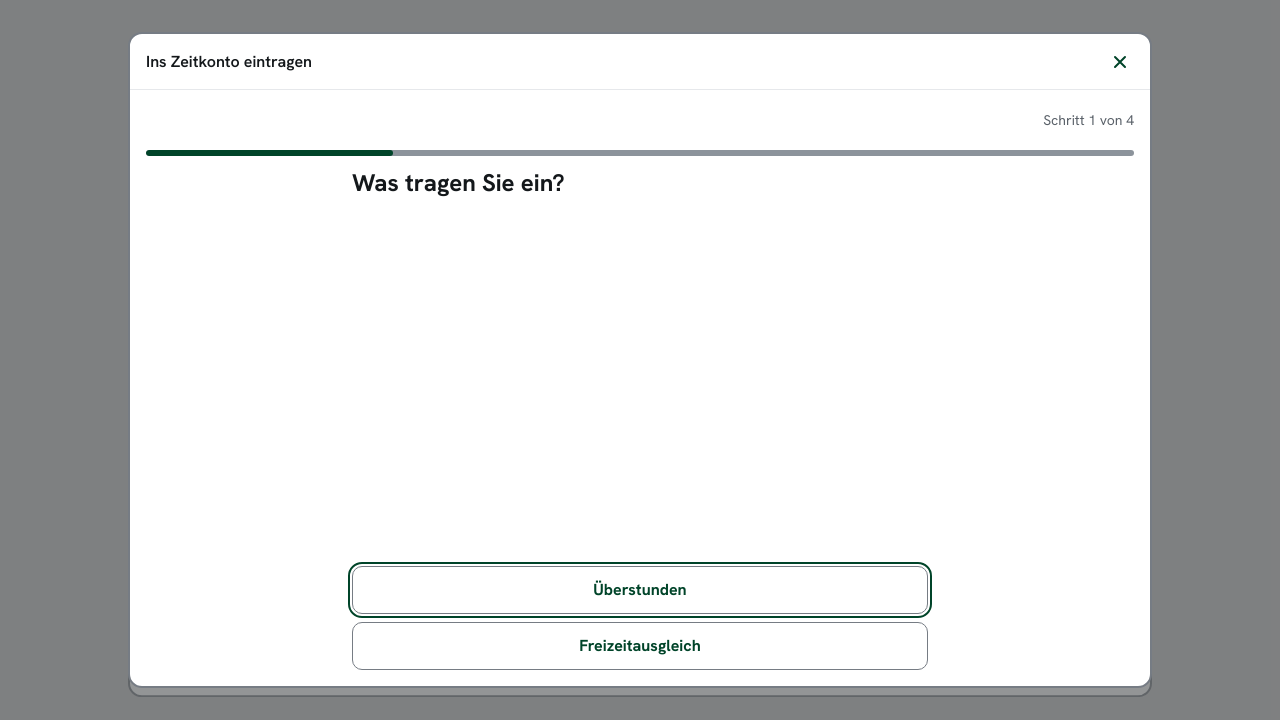
it: RecordTimeAccountPage › nimmt Freizeitausgleich am Plan des Tages und nennt danach die Termine darin
Click the button "Freizeitausgleich" at coordinates (640, 646), box [352,622,928,670]
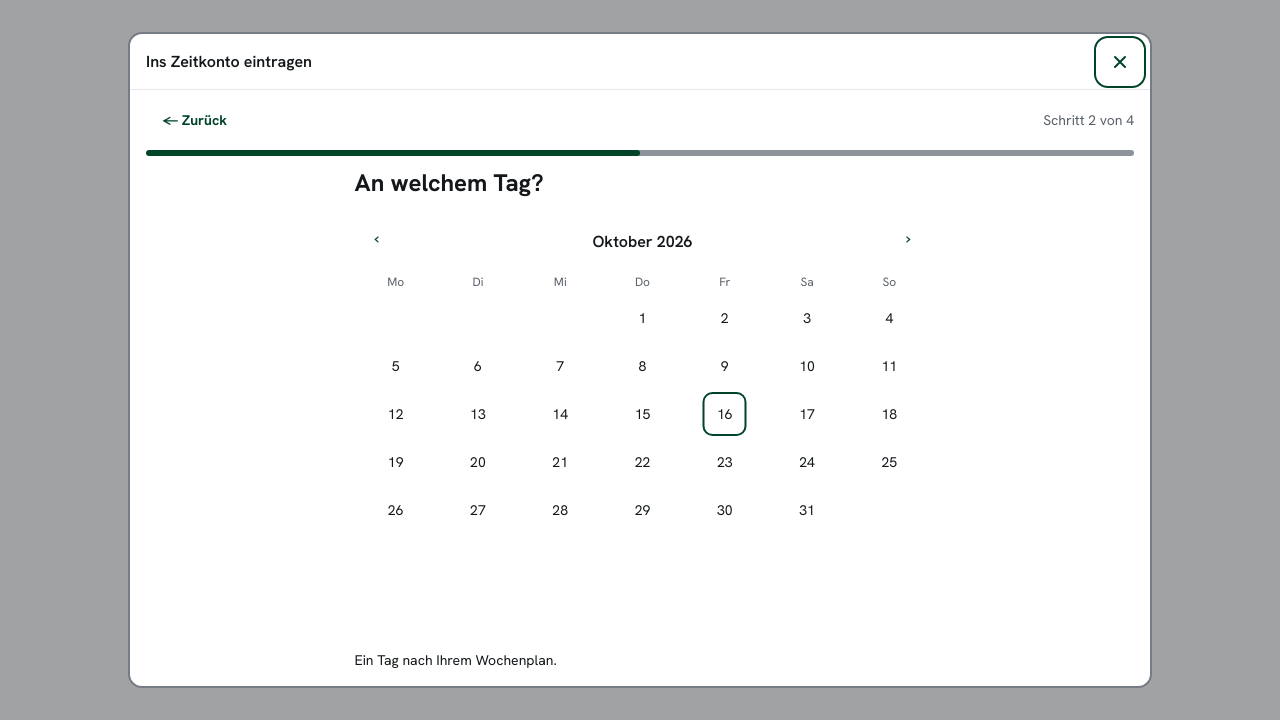
Click the button "23" at coordinates (722, 462), box [700,440,744,484]
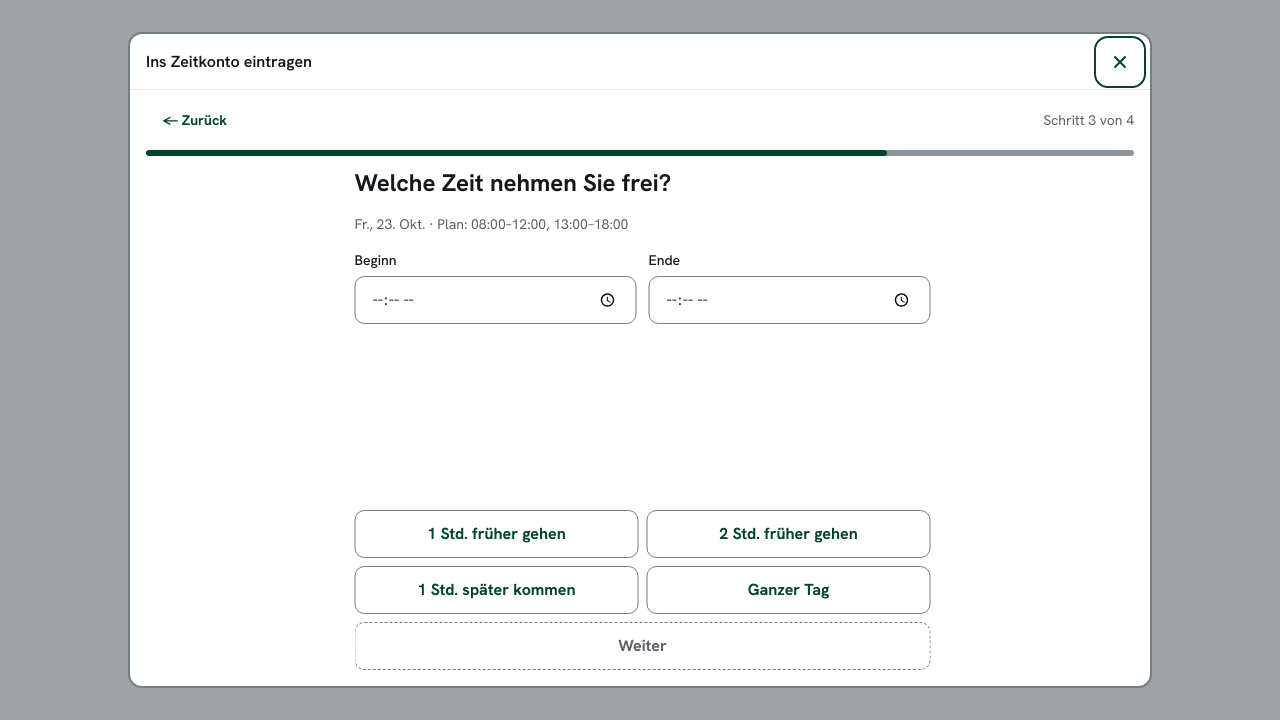
expect the text "Fr., 23. Okt. · Plan: 08:00–12:00, 13:00–18:00" is shown: met, box [352,215,626,233]
Click the button with aria-label "2 Std. früher gehen: 16:00–18:00" at coordinates (786, 534), box [644,510,928,558]
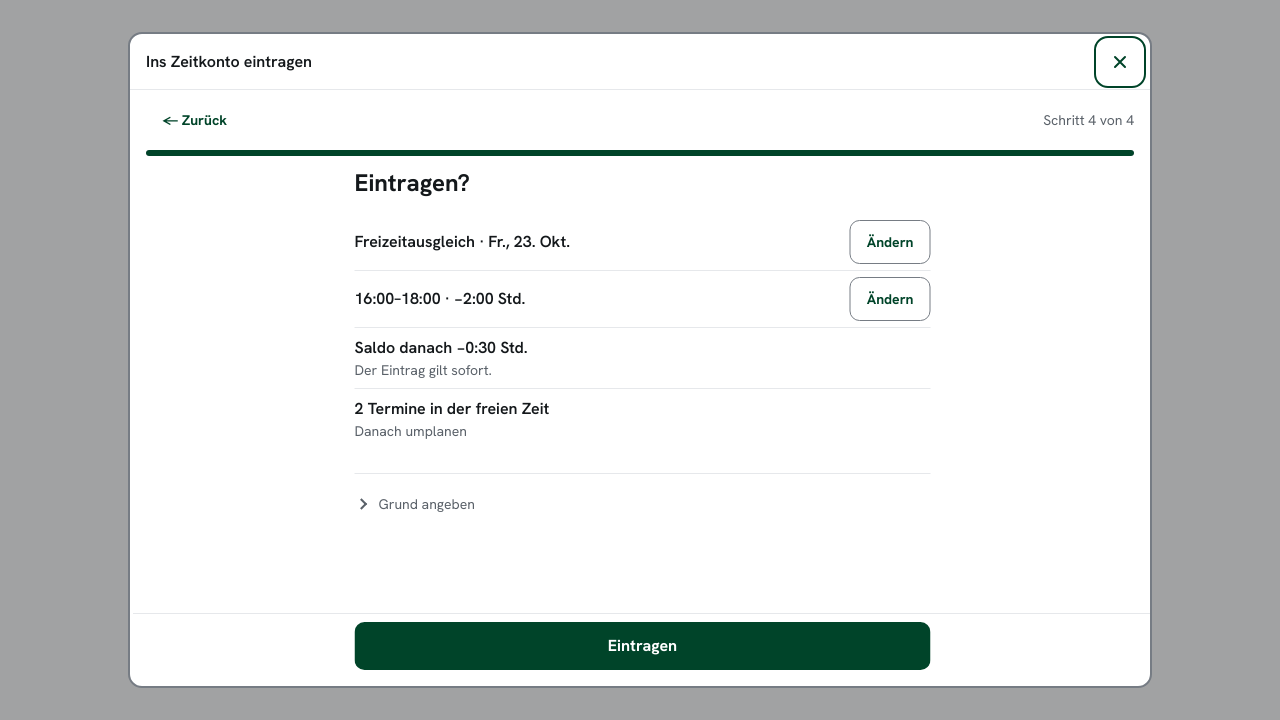
expect the text "2 Termine in der freien Zeit" is shown: met, box [352,398,547,419]
expect the text "Saldo danach −0:30 Std." is shown: met, box [352,337,525,358]
Click the button "Eintragen" at coordinates (640, 646), box [352,622,928,670]
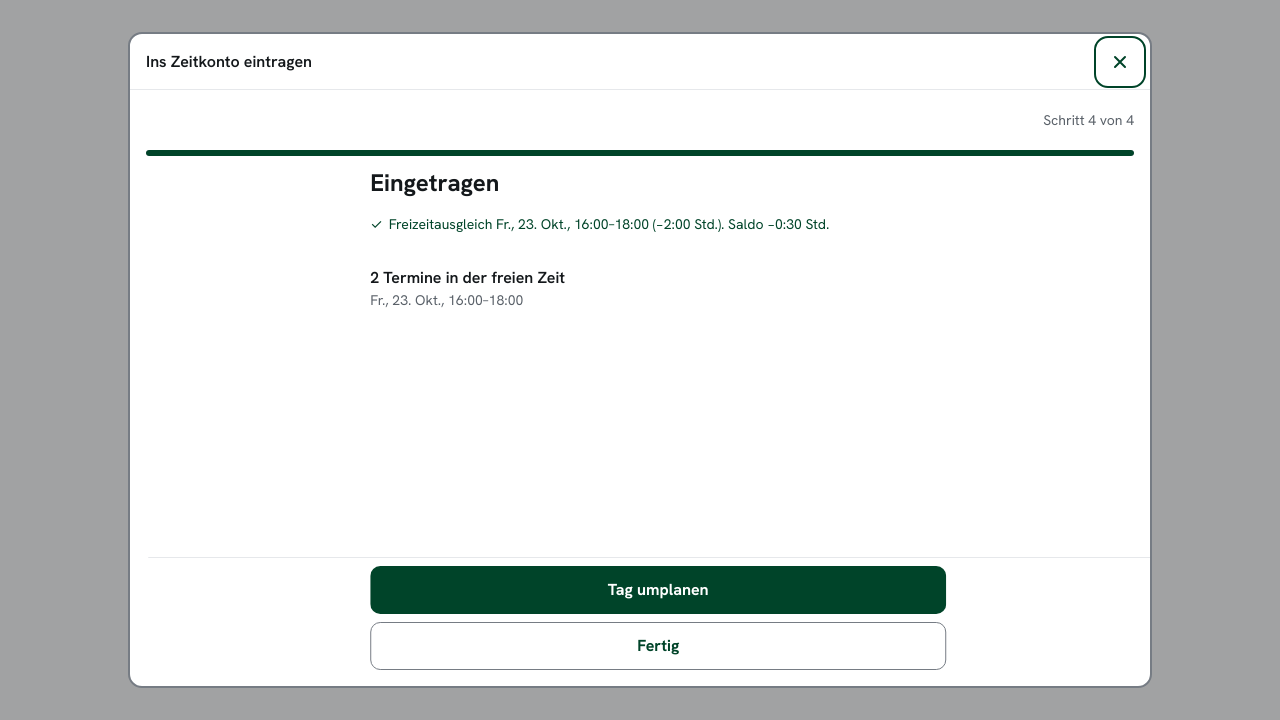
expect the text "2 Termine in der freien Zeit" is shown: met, box [358,267,553,288]
expect the button "Fertig" is shown: met, box [358,622,934,670]
